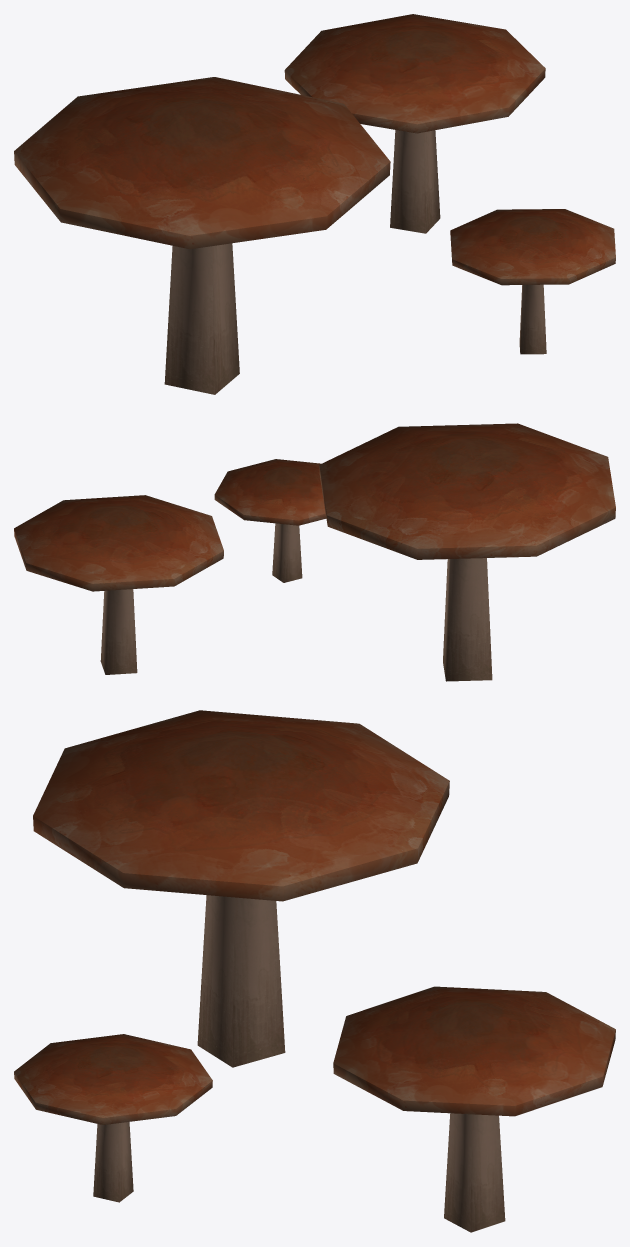
The model's file is Mushrooms_01.fbx.
The picture shows the model from 3 angles, top to bottom: view 1: azimuth 30°, elevation 25°; view 2: azimuth 150°, elevation 25°; view 3: azimuth 270°, elevation 25°; orthographic projection. The views are drawn at different scales.
Parts seen in each view (by area): view 1: Mushrooms01; view 2: Mushrooms01; view 3: Mushrooms01.
Part boxes in pixels (x1,y1,x2,y2): Mushrooms01: (14,14,615,394); Mushrooms01: (14,423,615,681); Mushrooms01: (14,710,615,1232).
Bounding box in the file's own units: 0.4883 × 0.218 × 0.3861.
Materials: 1 (1 with a texture image).
